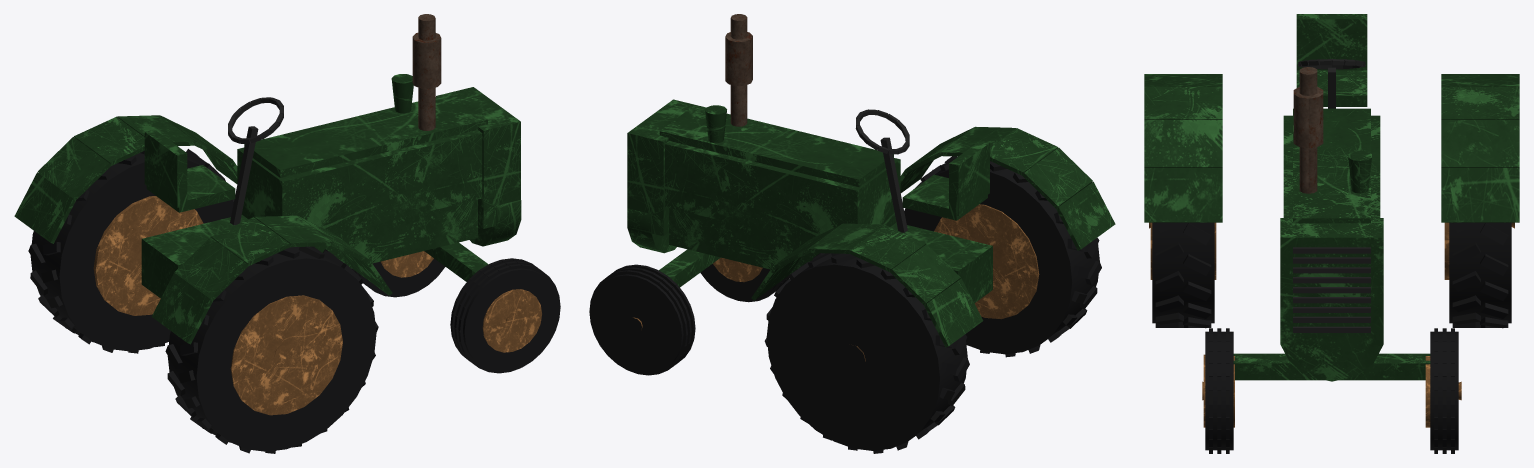
Rendered from tractor-green.glb.
3 renders of one model, left to right at view 1: azimuth 30°, elevation 25°; view 2: azimuth 150°, elevation 25°; view 3: azimuth 270°, elevation 25°, orthographic. The views are drawn at different scales.
Parts seen in each view (by area): view 1: tractor-green2; view 2: tractor-green2; view 3: tractor-green2.
Boxes of the visible parts, x1,y1,x2,y2 form: tractor-green2: (14,14,560,453); tractor-green2: (589,14,1115,453); tractor-green2: (1144,14,1519,453).
Bounding box in the file's own units: 1.07 × 0.8461 × 0.8.
5 materials, 3 textured.
